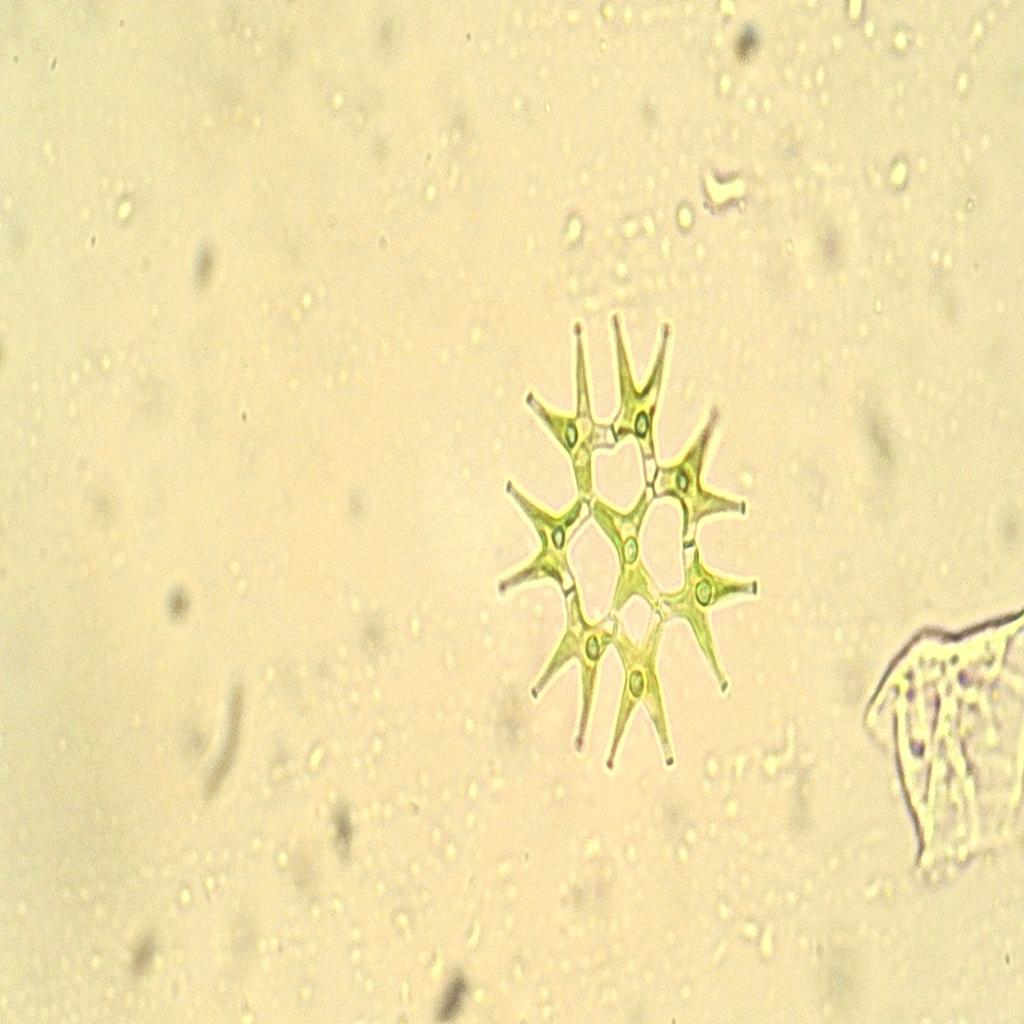Pediastrum_1T: (490, 298, 764, 792)
